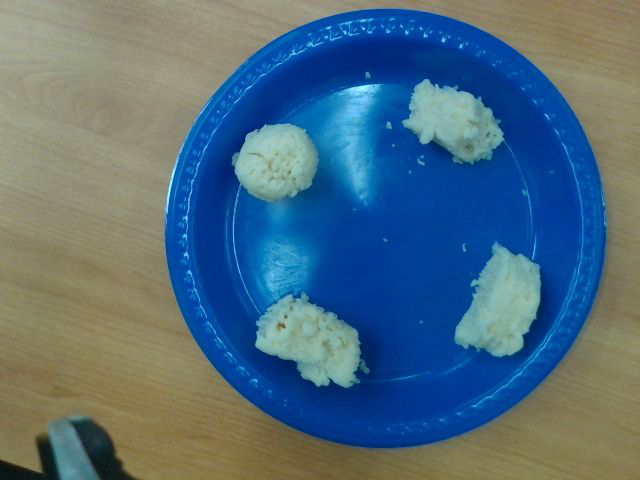mashed_potato: (455, 244, 541, 357), (256, 297, 361, 387), (407, 79, 504, 162), (235, 123, 318, 198)
